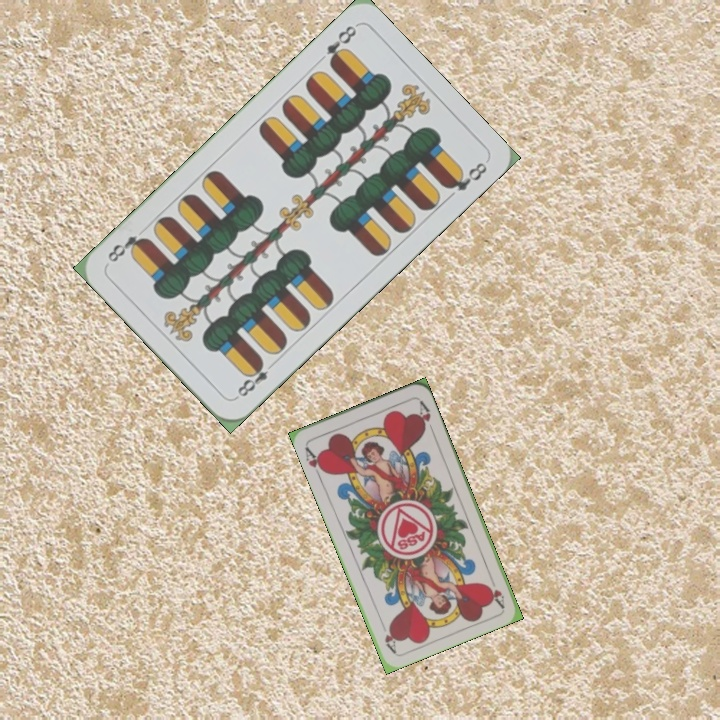E8: (231, 355, 279, 402), (322, 21, 360, 69)
HA: (301, 442, 329, 480), (484, 581, 507, 610)
